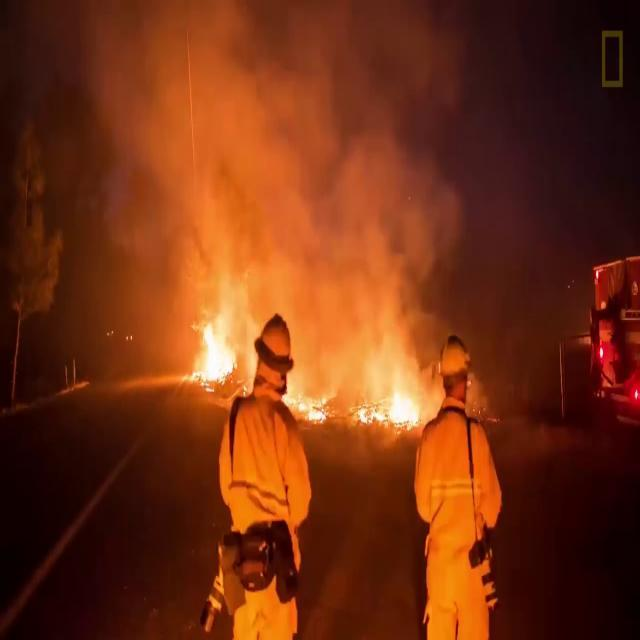Fire: (348, 373, 421, 433), (191, 312, 239, 380), (286, 388, 330, 425)
